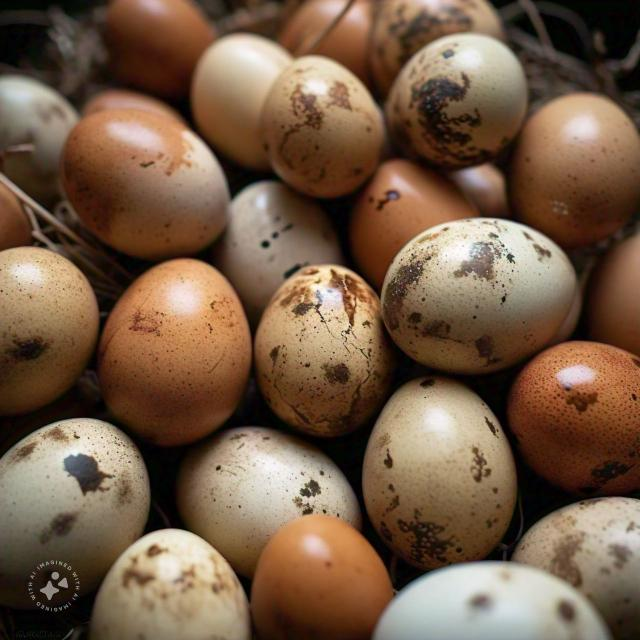Brown Egg: (509, 88, 630, 243), (246, 516, 392, 640), (107, 5, 224, 86)
Dirt Stained Egg: (374, 212, 591, 369), (368, 367, 513, 556), (0, 408, 154, 585), (109, 253, 248, 449), (245, 254, 388, 439), (163, 427, 358, 545), (60, 99, 226, 233), (85, 519, 253, 640), (250, 52, 387, 195), (384, 32, 529, 164), (519, 340, 640, 494), (510, 514, 640, 638), (220, 176, 350, 298)
White Egg: (193, 28, 304, 168)
